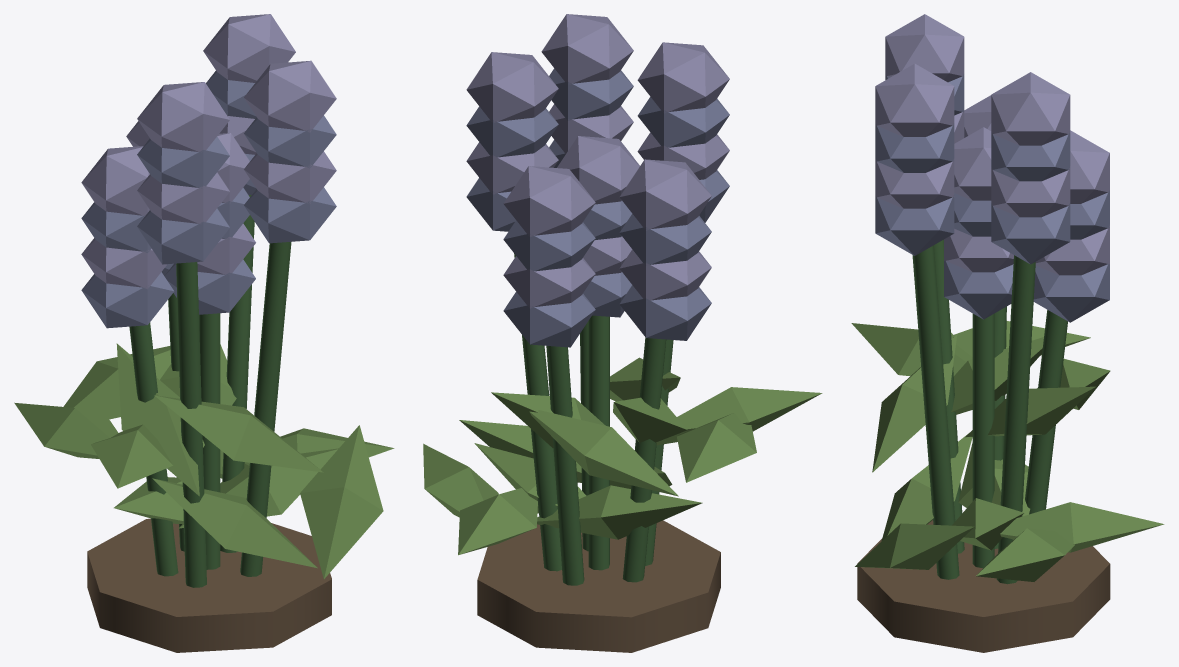
File: plant-lavender-3.glb
3 views of the same model, side by side, from view 1: azimuth 30°, elevation 25°; view 2: azimuth 150°, elevation 25°; view 3: azimuth 270°, elevation 25° (orthographic).
Parts seen in each view (by area): view 1: plant-lavender-3-visual; view 2: plant-lavender-3-visual; view 3: plant-lavender-3-visual.
Boxes of the visible parts, x1,y1,x2,y2 form: plant-lavender-3-visual: [14, 14, 394, 652]; plant-lavender-3-visual: [423, 14, 822, 652]; plant-lavender-3-visual: [851, 14, 1164, 652].
Bounding box in the file's own units: 0.5003 × 0.765 × 0.3969.
